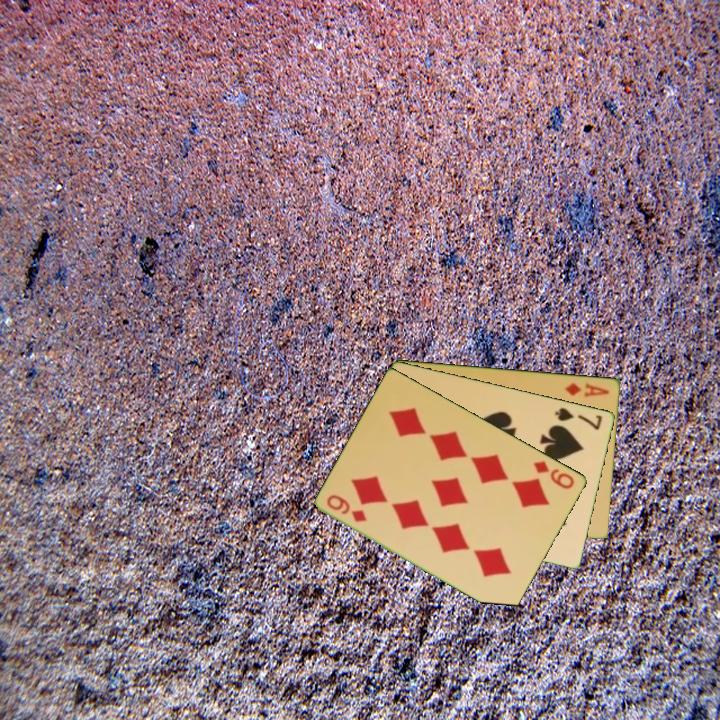7s: (552, 404, 605, 433)
9d: (530, 457, 578, 492), (323, 491, 370, 525)
Ad: (561, 379, 612, 400)
